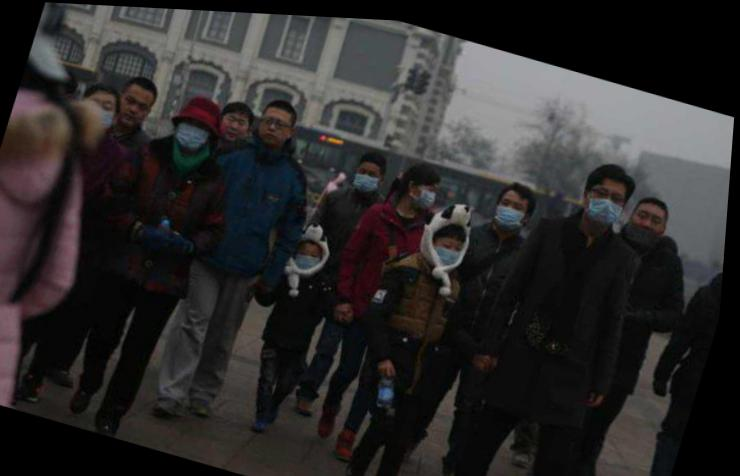NONE: (118, 90, 155, 129), (259, 107, 296, 145), (222, 112, 254, 142)
OK: (584, 172, 633, 220), (492, 188, 534, 230), (177, 115, 218, 153), (83, 94, 120, 132), (433, 230, 469, 267), (408, 174, 444, 208), (354, 158, 388, 192), (297, 238, 329, 272)
WRONG: (629, 195, 673, 238)
